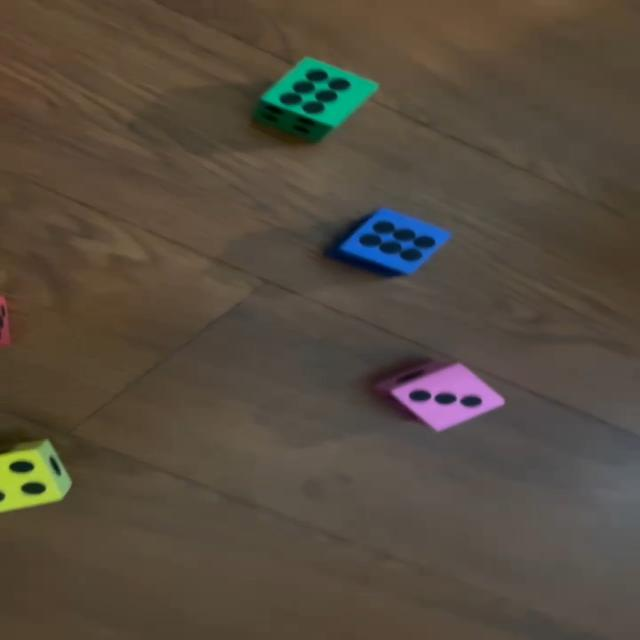blue_block: (330, 205, 447, 277)
red_block: (0, 293, 11, 346)
